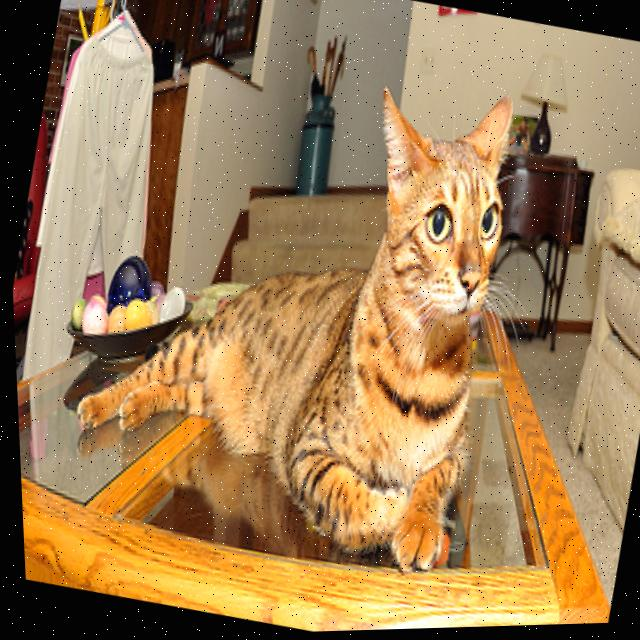Bengal: (31, 14, 549, 602)
